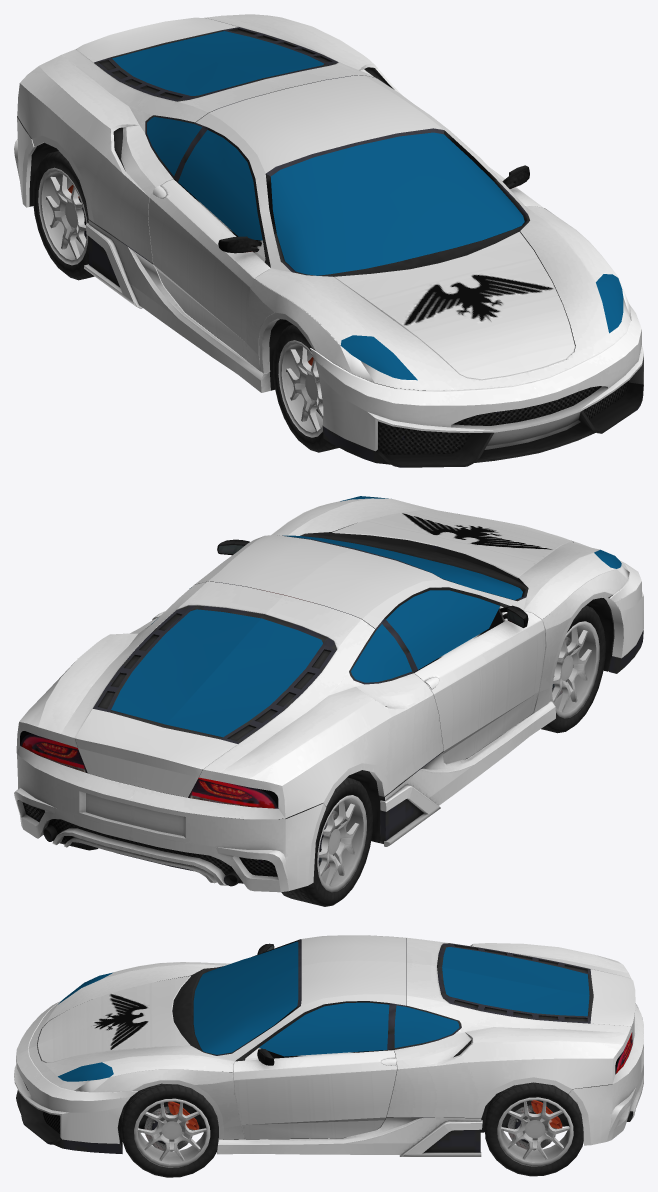
The model's file is Car25.fbx.
3 renders of one model, top to bottom at view 1: azimuth 30°, elevation 25°; view 2: azimuth 150°, elevation 25°; view 3: azimuth 270°, elevation 25°, orthographic. The views are drawn at different scales.
Visible parts, largest first — view 1: Body, Front_Glass_, BumperF, Hood, Roof, DC3_Sport_4_Door_FR, Back_Glass_, DC3_Sport_4_Sidepanel_R_2, DC3_Sport_4_Glass_FR, Trunk, Wing_1, Metal (+7 smaller); view 2: Body, BumperB, Back_Glass_, Trunk, Roof, DC3_Sport_4_Door_FR, Hood, DC3_Sport_4_Sidepanel_R_2, DC3_Sport_4_Glass_FR, Metal, Metal_1, Wing_1 (+7 smaller); view 3: Body, DC3_Sport_4_Door_FR_1, Roof, Front_Glass_, Hood, Back_Glass_, BumperF, DC3_Sport_4_Sidepanel_R_2__1_, DC3_Sport_4_Glass_FR_1, Trunk, Tire_2, BumperB (+8 smaller).
Boxes of the visible parts, x1,y1,x2,y2 form: Body: (17, 14, 630, 390); Front_Glass_: (271, 132, 524, 275); BumperF: (310, 304, 643, 467); Hood: (334, 231, 575, 380); Roof: (181, 75, 501, 240); DC3_Sport_4_Door_FR: (148, 179, 270, 359); Back_Glass_: (112, 31, 323, 95); DC3_Sport_4_Sidepanel_R_2: (84, 219, 270, 392); DC3_Sport_4_Glass_FR: (178, 130, 262, 240); Trunk: (76, 17, 337, 101); Wing_1: (246, 279, 374, 383); Metal: (38, 167, 87, 265); Body: (16, 498, 628, 842); BumperB: (14, 754, 326, 892); Back_Glass_: (111, 609, 322, 737); Trunk: (75, 605, 336, 797); Roof: (194, 535, 500, 654); DC3_Sport_4_Door_FR: (414, 606, 545, 763); Hood: (332, 510, 572, 577); DC3_Sport_4_Sidepanel_R_2: (379, 701, 555, 846); DC3_Sport_4_Glass_FR: (386, 590, 499, 669); Metal: (317, 795, 366, 892); Metal_1: (551, 621, 599, 718); Wing_1: (533, 566, 629, 713); Body: (28, 937, 643, 1150); DC3_Sport_4_Door_FR_1: (233, 1047, 396, 1139); Roof: (254, 935, 406, 1046); Front_Glass_: (193, 941, 298, 1054); Hood: (37, 976, 190, 1062); Back_Glass_: (442, 947, 589, 1016); BumperF: (14, 1001, 137, 1153); DC3_Sport_4_Sidepanel_R_2__1_: (217, 1117, 482, 1156); DC3_Sport_4_Glass_FR_1: (259, 1002, 389, 1056); Trunk: (437, 943, 635, 1044); Tire_2: (484, 1082, 583, 1176); BumperB: (568, 1044, 643, 1145).
Bounding box in the file's own units: 323 × 217 × 744.
